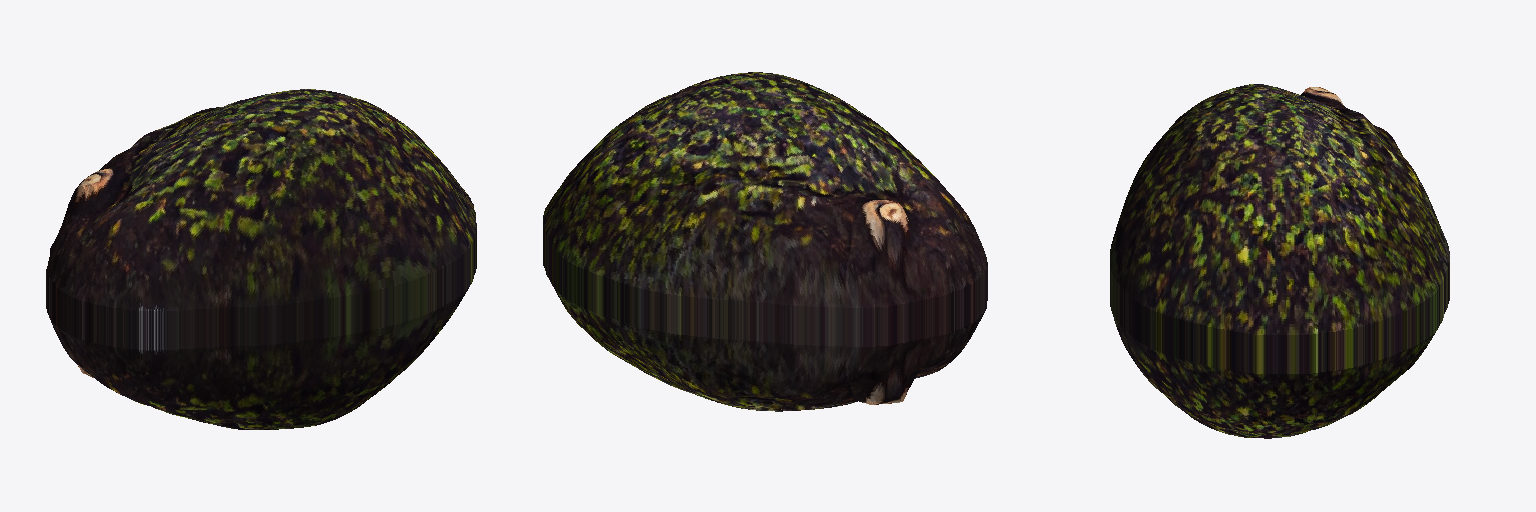
3 views of the same model, side by side, from view 1: azimuth 30°, elevation 25°; view 2: azimuth 150°, elevation 25°; view 3: azimuth 270°, elevation 25° (orthographic).
Parts seen in each view (by area): view 1: Grid; view 2: Grid; view 3: Grid.
Part boxes in pixels (x1,y1,x2,y2): Grid: (46,89,476,429); Grid: (543,72,987,411); Grid: (1110,84,1449,438).
Bounding box in the file's own units: 2.17 × 1.6 × 1.59.
1 materials, 1 textured.